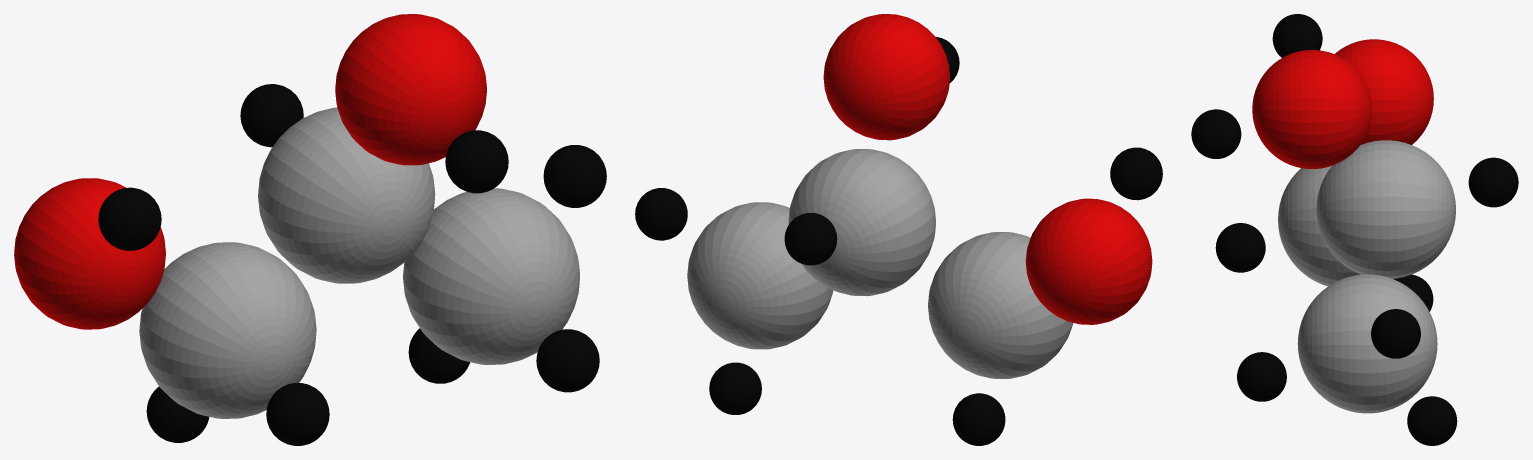
The model's file is Propylene Glycol.glb.
3 views of the same model, side by side, from view 1: azimuth 30°, elevation 25°; view 2: azimuth 150°, elevation 25°; view 3: azimuth 270°, elevation 25° (orthographic). The views are drawn at different scales.
Parts seen in each view (by area): view 1: world; view 2: world; view 3: world.
Boxes of the visible parts, x1,y1,x2,y2 form: world: (14,14,606,445); world: (635,14,1162,445); world: (1191,14,1518,445).
Size of the model in its own units: 5.4 by 3.84 by 3.28.
